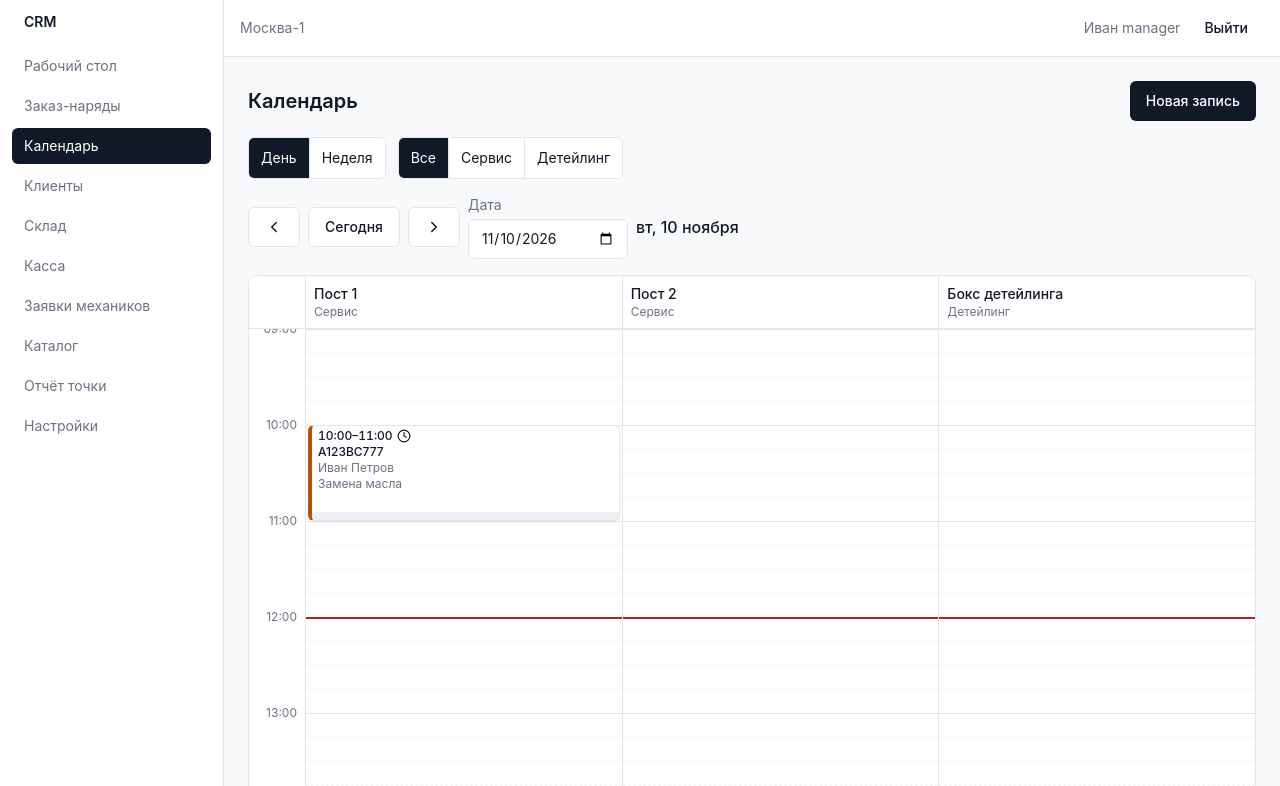
Scenario: календарь: отображение › навигация по дням: запросы с новой датой
Expected: the text "Пост 1" is shown, [314,285,357,302]
Step 1. Click the button named "Предыдущий день" → (274, 227), box [248,207,300,247]
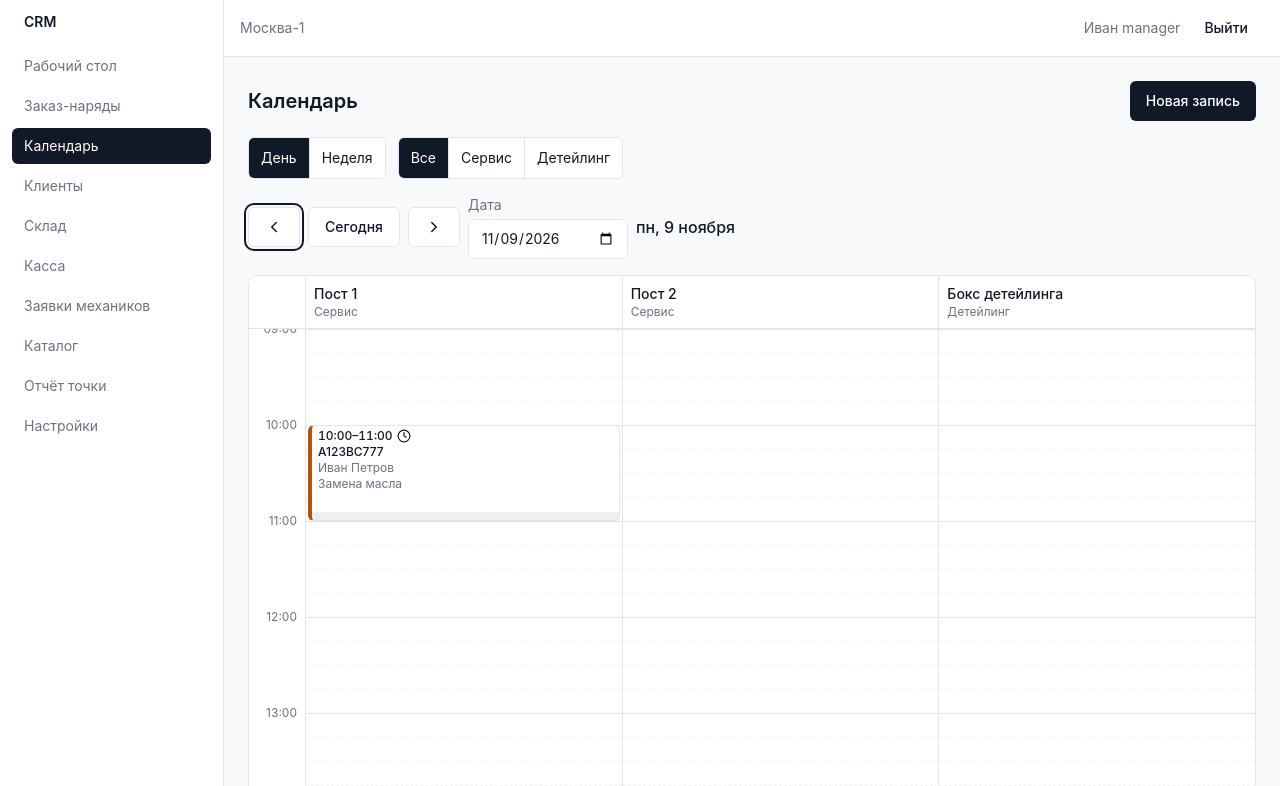
Expected: the heading "пн, 9 ноября" is shown, [636,217,735,237]
Step 2. Click the button "Сегодня" → (354, 227), box [308,207,400,247]
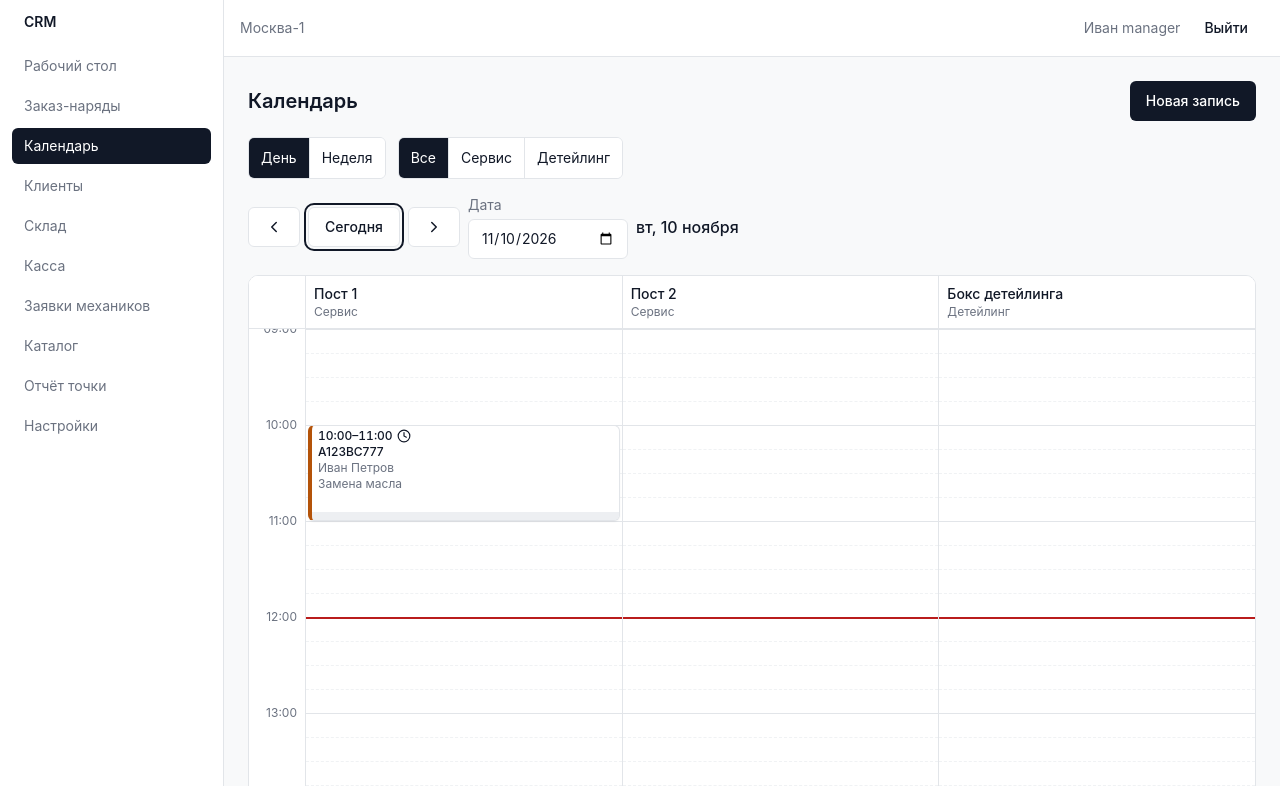
Expected: the heading "вт, 10 ноября" is shown, [636,217,739,237]
